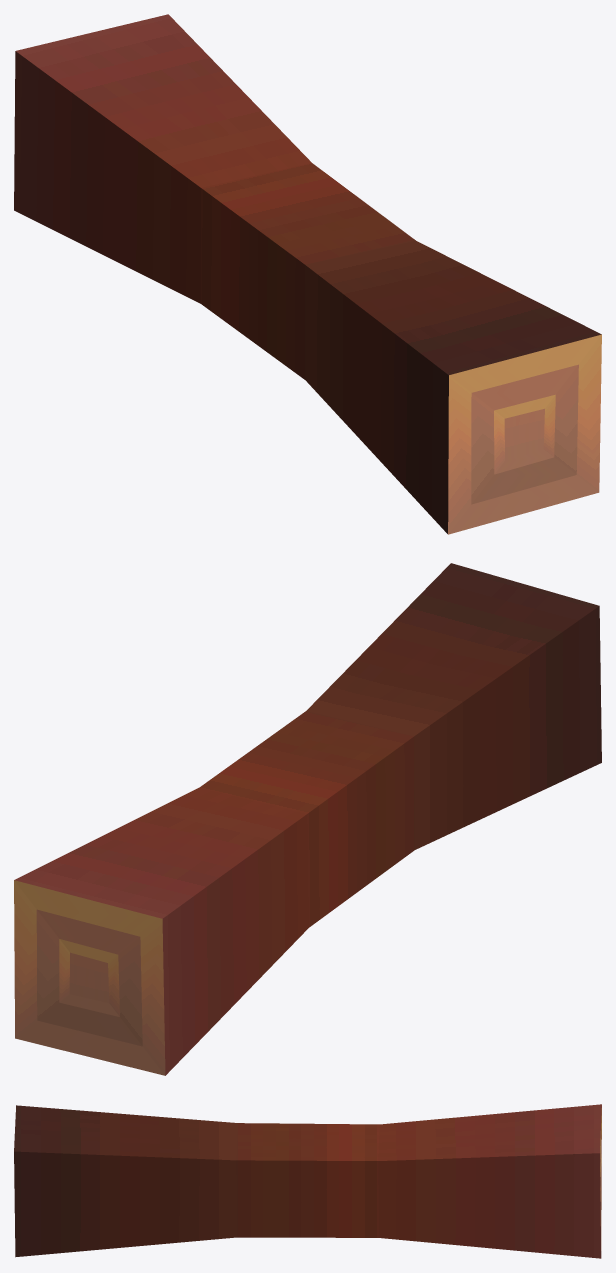
The model's file is Wood_Beam_001.FBX.
The picture shows the model from 3 angles, top to bottom: view 1: azimuth 30°, elevation 25°; view 2: azimuth 150°, elevation 25°; view 3: azimuth 270°, elevation 25°; orthographic projection. The views are drawn at different scales.
Visible parts, largest first — view 1: Wood_Beam_001; view 2: Wood_Beam_001; view 3: Wood_Beam_001.
Part boxes in pixels (x1=…): Wood_Beam_001: x1=14, y1=14, x2=601, y2=534; Wood_Beam_001: x1=14, y1=563, x2=601, y2=1075; Wood_Beam_001: x1=14, y1=1104, x2=601, y2=1258.
Bounding box in the file's own units: 0.1035 × 0.5018 × 0.1032.
